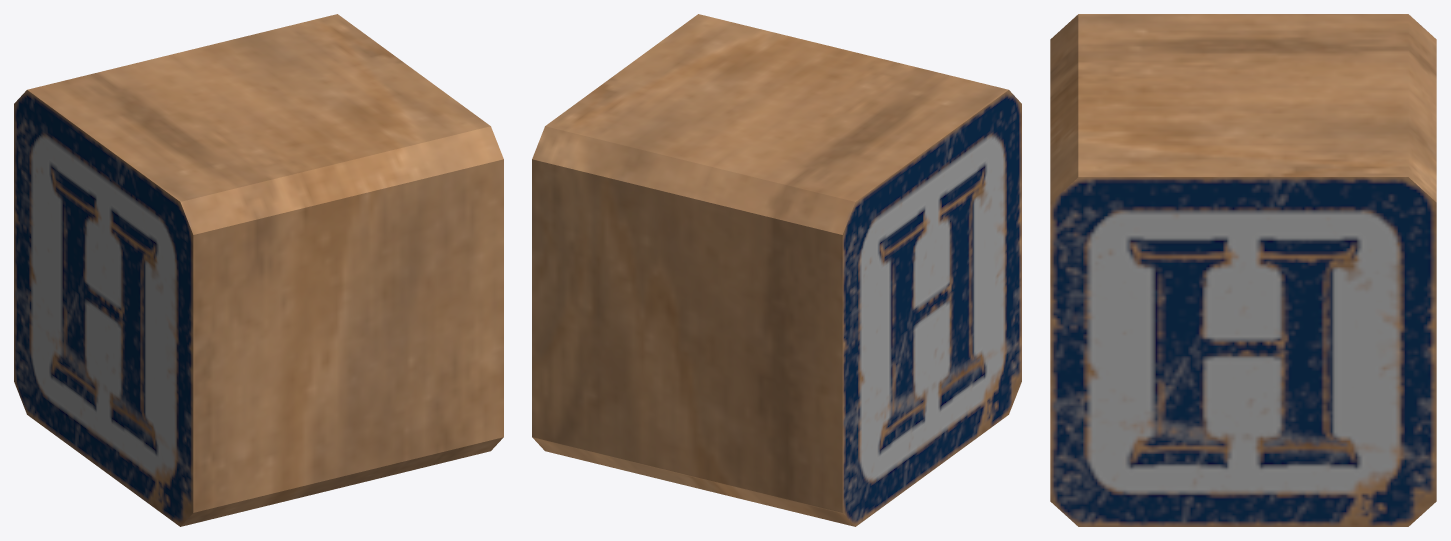
Rendered from ToyBlock_H.fbx.
3 views of the same model, side by side, from view 1: azimuth 30°, elevation 25°; view 2: azimuth 150°, elevation 25°; view 3: azimuth 270°, elevation 25° (orthographic). The views are drawn at different scales.
Parts seen in each view (by area): view 1: ToyBlockH; view 2: ToyBlockH; view 3: ToyBlockH.
Part boxes in pixels (<box>): ToyBlockH: <box>14,14,503,526</box>; ToyBlockH: <box>532,14,1021,526</box>; ToyBlockH: <box>1050,14,1436,526</box>.
Size of the model in its own units: 100 by 100 by 100.
1 material, 1 textured.
